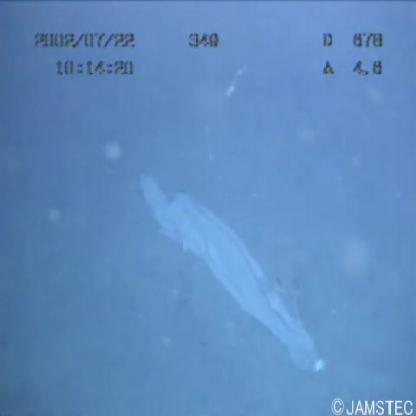Rác: (131, 170, 333, 385)
